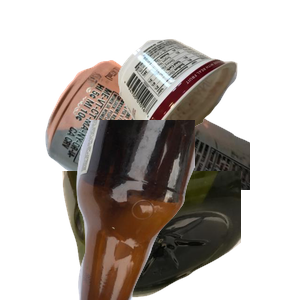glass: (60, 120, 300, 300)
metal: (43, 58, 283, 238)
plastic: (60, 171, 300, 300)
trash: (116, 36, 300, 187)
